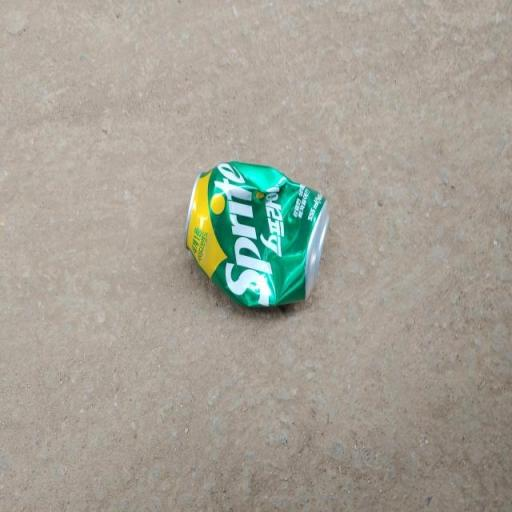metal: (174, 142, 336, 326)
